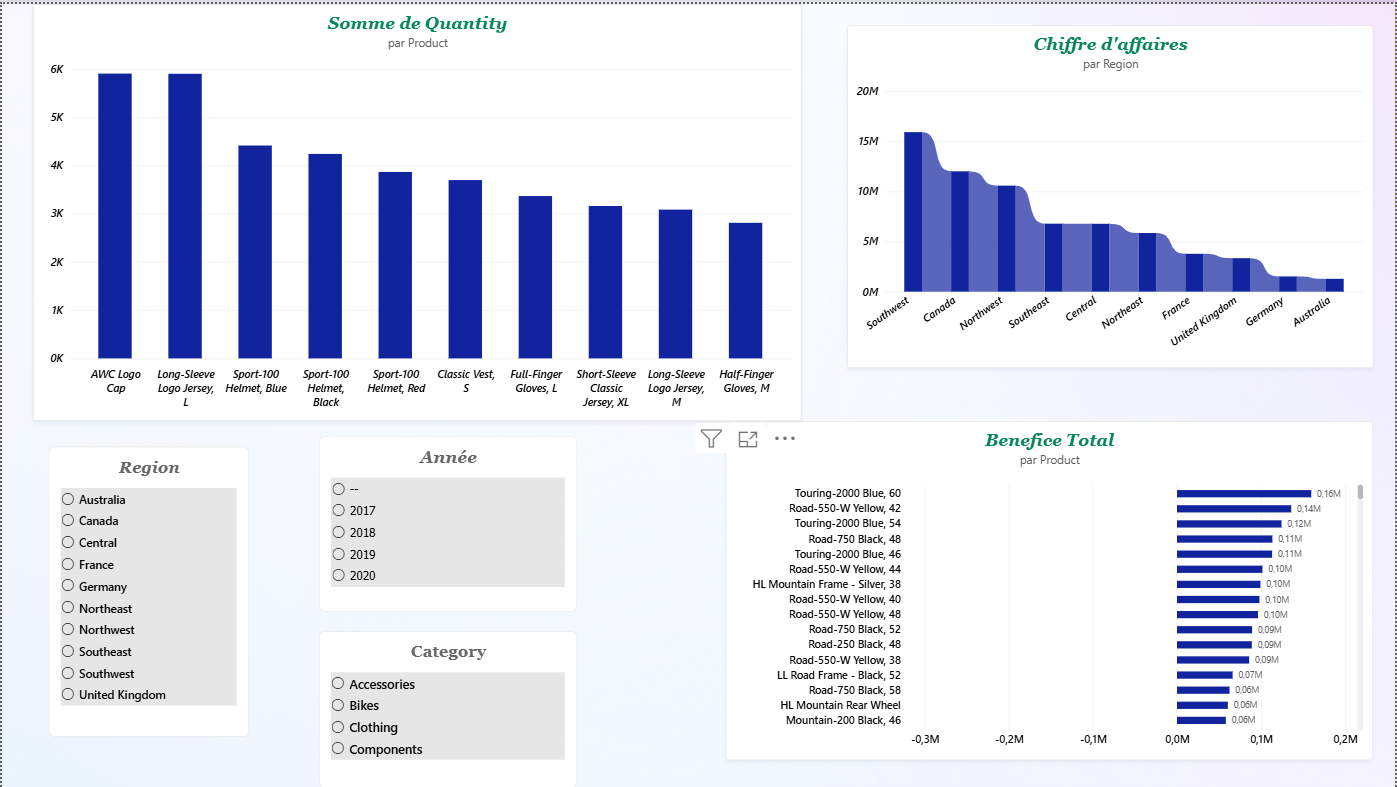

This screenshot's page, from the dashboard's own definition file:
{"tool":"powerbi","page":{"name":"Page 3","canvas":[1920,1080],"ordinal":2},"visuals":[{"type":"barChart","title":"Benefice Total","fields":{"Category":["Product.Product"],"Y":["Sales.BeneficeTotal"]},"box":[997.5,575,892.5,467.5],"z":0},{"type":"ribbonChart","title":"Chiffre d''affaires","fields":{"Category":["Region.Region"],"Y":["Sales.ChiffreAffaires"]},"box":[1165,30,725,472.5],"z":1000},{"type":"columnChart","fields":{"Category":["Product.Product"],"Y":["Sum(Sales.Quantity)"]},"box":[42.5,0,1060,575],"z":2000},{"type":"listSlicer","fields":{"Values":["Calendrier.Année"]},"box":[437.5,595,356,242],"z":3000},{"type":"listSlicer","fields":{"Values":["Product.Category"]},"box":[437.5,865,356,216],"z":4000},{"type":"listSlicer","fields":{"Values":["Region.Region"]},"box":[65,610,276,400],"z":5000}]}

Visuals, with their boxes in screenshot pixels (x1, y1, x2, y2), scaled from the page's 1920x1080 canvas onto the 1397x787 screenshot:
"Benefice Total" barChart: [x1=726, y1=419, x2=1375, y2=760]
"Chiffre d''affaires" ribbonChart: [x1=848, y1=22, x2=1375, y2=366]
columnChart - Product.Product x Sum(Sales.Quantity): [x1=31, y1=0, x2=802, y2=419]
listSlicer - Calendrier.Année: [x1=318, y1=434, x2=577, y2=610]
listSlicer - Product.Category: [x1=318, y1=630, x2=577, y2=786]
listSlicer - Region.Region: [x1=47, y1=445, x2=248, y2=736]
